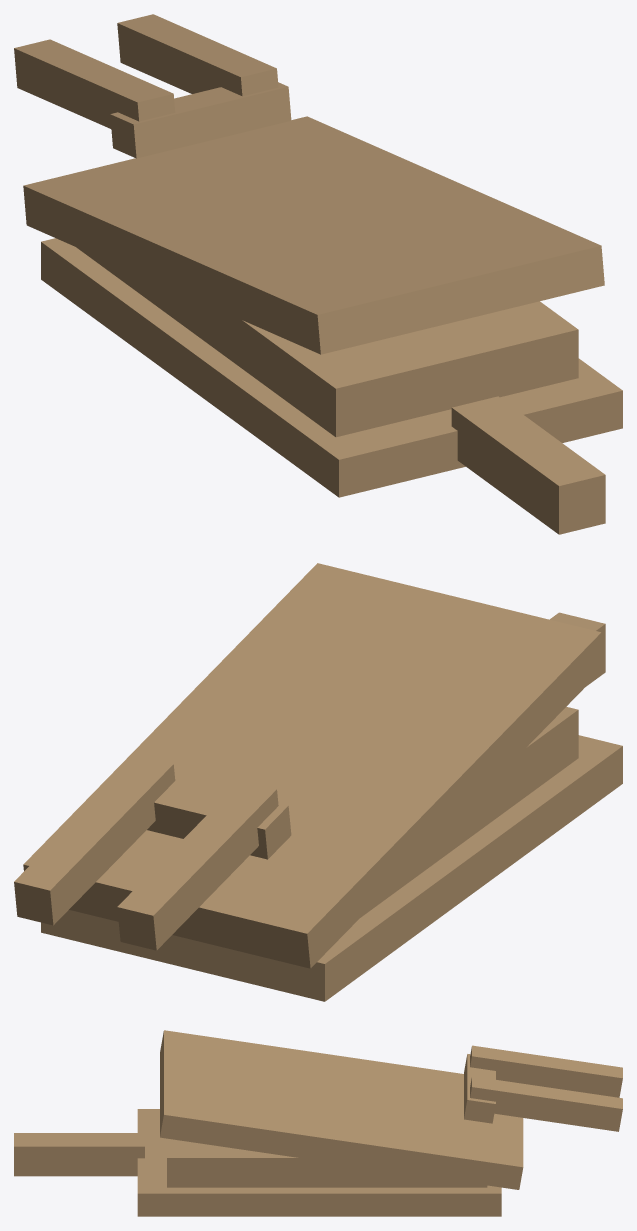
File: Bellows.gltf
3 views of the same model, one above another, from view 1: azimuth 30°, elevation 25°; view 2: azimuth 150°, elevation 25°; view 3: azimuth 270°, elevation 25° (orthographic). The views are drawn at different scales.
Parts seen in each view (by area): view 1: Bellows; view 2: Bellows; view 3: Bellows.
Boxes of the visible parts, bbox=[...] form: Bellows: bbox=[14, 14, 622, 534]; Bellows: bbox=[14, 563, 622, 1001]; Bellows: bbox=[14, 1030, 622, 1216].
Size of the model in its own units: 0.55 by 0.328 by 1.67.
